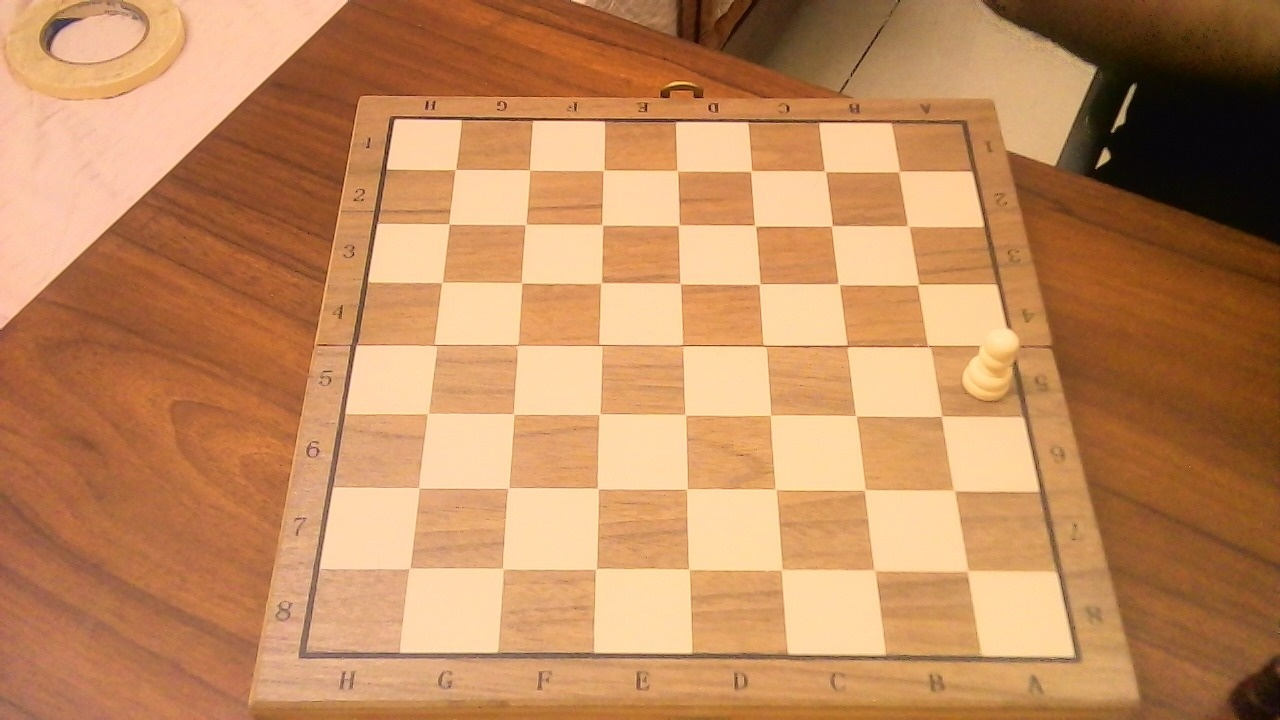P: (955, 318, 1026, 403)
